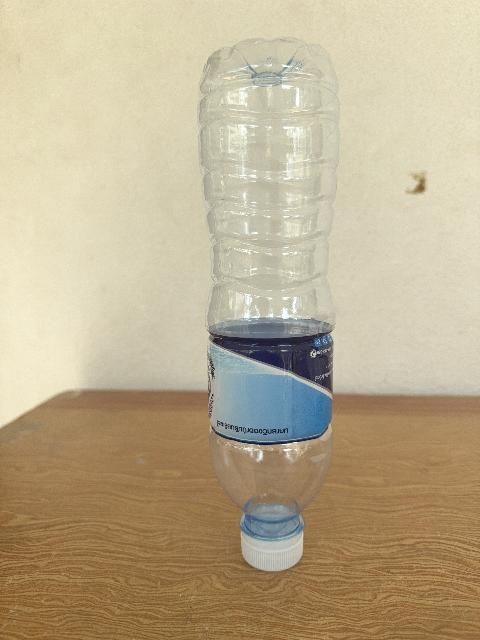bottle: (198, 39, 337, 570)
